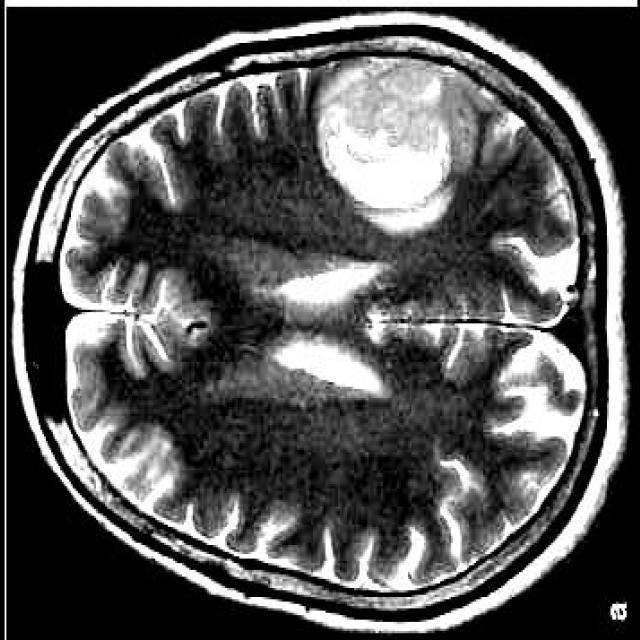tumor: (312, 57, 475, 235)
